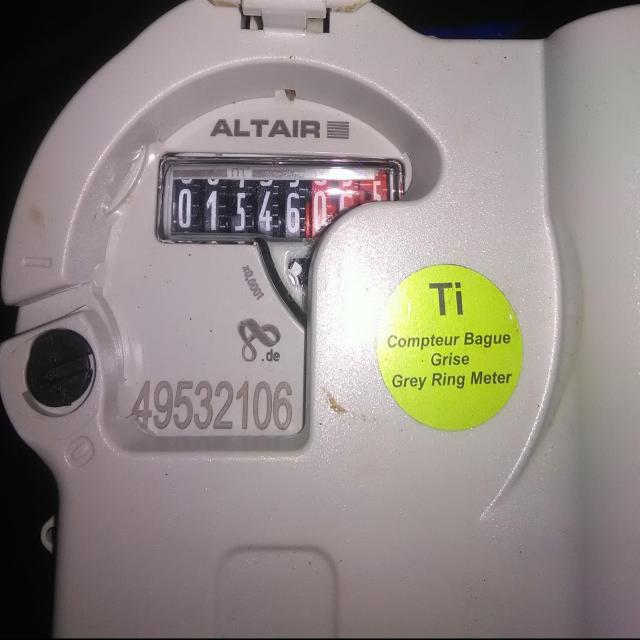gaz_meter: (70, 47, 444, 473)
indication: (161, 161, 401, 241)
